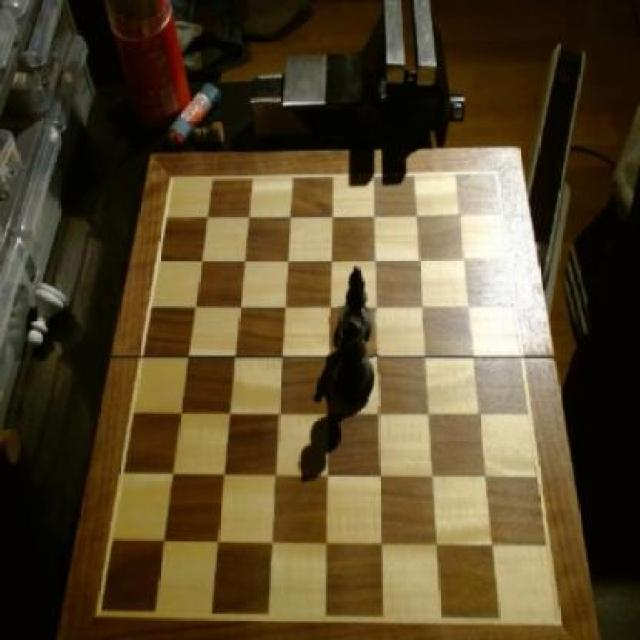bishop: (338, 263, 374, 341)
black-pawn: (329, 314, 380, 410)
